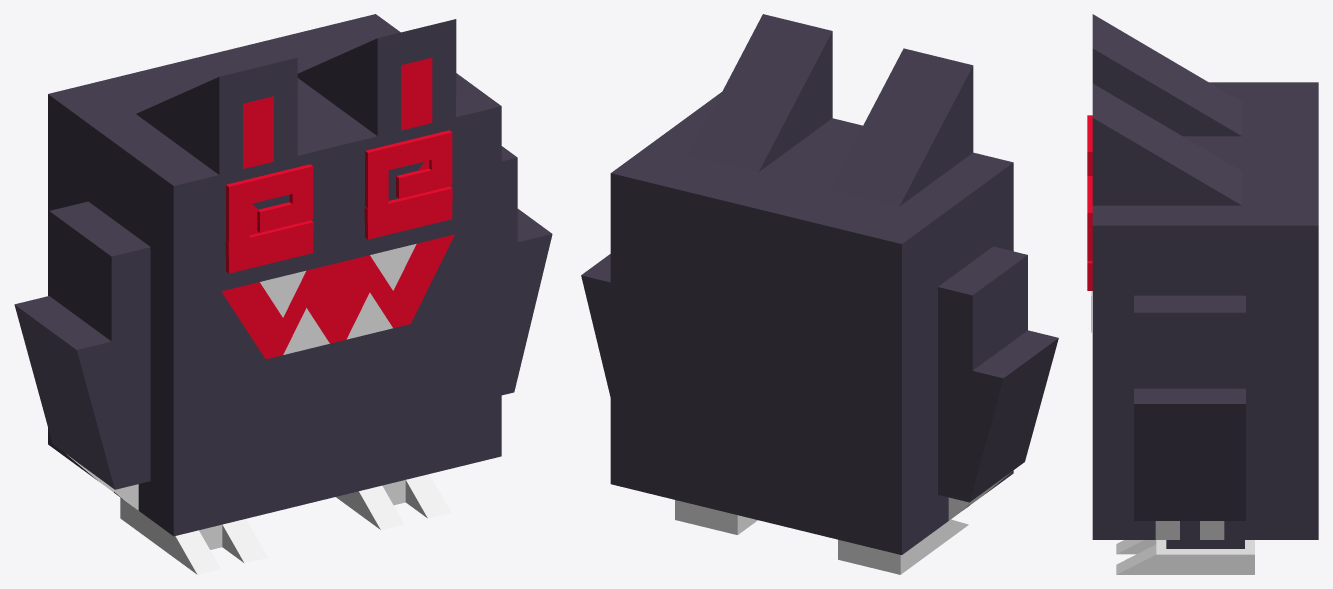
3 renders of one model, left to right at view 1: azimuth 30°, elevation 25°; view 2: azimuth 150°, elevation 25°; view 3: azimuth 270°, elevation 25°, orthographic. The views are drawn at different scales.
Visible parts, largest first — view 1: Ch_49, Ch_49_Hand_L, Ch_49_Hand_R, Ch_49_Eye_03_L, Ch_49_Eye_03_R, Ch_49_Leg_L, Ch_49_Leg_R; view 2: Ch_49, Ch_49_Hand_L, Ch_49_Leg_L, Ch_49_Hand_R, Ch_49_Leg_R; view 3: Ch_49, Ch_49_Hand_R, Ch_49_Leg_R, Ch_49_Eye_03_R, Ch_49_Eye_03_L.
Boxes of the visible parts, x1,y1,x2,y2 form: Ch_49: (48,14,501,536); Ch_49_Hand_L: (14,201,150,510); Ch_49_Hand_R: (501,146,552,395); Ch_49_Eye_03_L: (226,164,313,273); Ch_49_Eye_03_R: (365,130,452,239); Ch_49_Leg_L: (120,497,267,574); Ch_49_Leg_R: (336,474,451,529); Ch_49: (610,14,1013,554); Ch_49_Hand_L: (938,246,1058,520); Ch_49_Leg_L: (838,519,968,574); Ch_49_Hand_R: (581,254,610,396); Ch_49_Leg_R: (675,500,757,534); Ch_49: (1087,14,1318,539); Ch_49_Hand_R: (1134,295,1245,539); Ch_49_Leg_R: (1116,540,1254,574); Ch_49_Eye_03_R: (1087,176,1092,290); Ch_49_Eye_03_L: (1087,115,1092,175).
Size of the model in its own units: 9.42 by 9.57 by 4.42.
